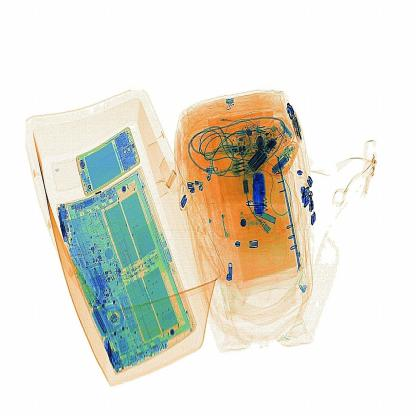scissors: (249, 166, 272, 219)
